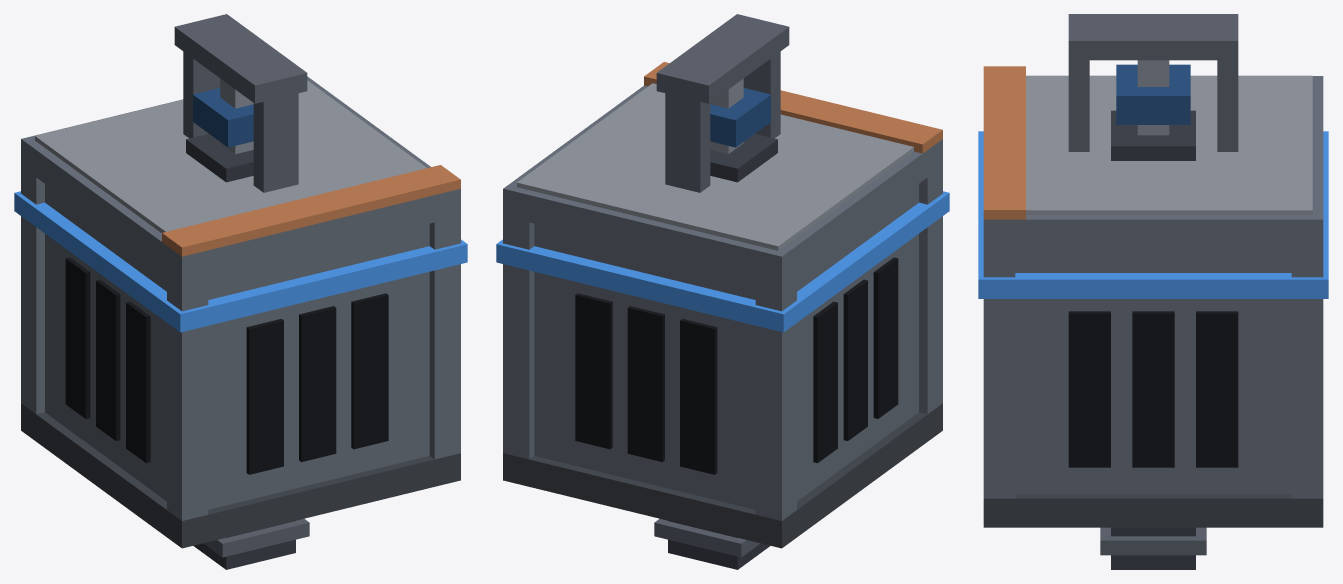
File: pump.glb
3 views of the same model, side by side, from view 1: azimuth 30°, elevation 25°; view 2: azimuth 150°, elevation 25°; view 3: azimuth 270°, elevation 25° (orthographic). The views are drawn at different scales.
Visible parts, largest first — view 1: body.017, tier.009, plunger; view 2: body.017, tier.009, plunger; view 3: body.017, tier.009, plunger.
Boxes of the visible parts, x1,y1,x2,y2 form: body.017: [14, 14, 467, 569]; tier.009: [162, 165, 460, 256]; plunger: [193, 78, 253, 154]; body.017: [496, 14, 949, 569]; tier.009: [644, 62, 942, 153]; plunger: [710, 78, 770, 154]; body.017: [978, 14, 1328, 569]; tier.009: [983, 66, 1025, 219]; plunger: [1116, 60, 1190, 135].
Bounding box in the file's own units: 1.03 × 1.7 × 1.03.
